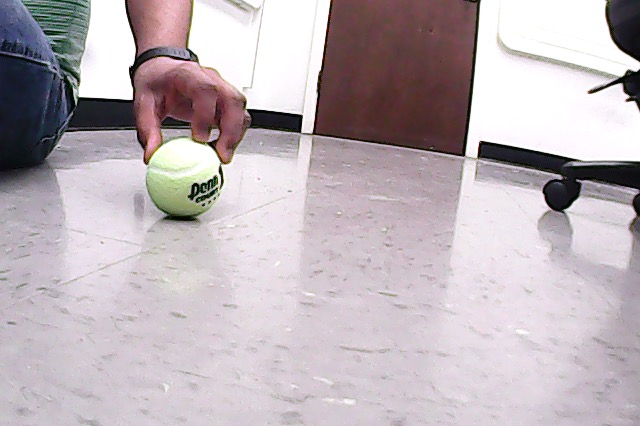ball: (146, 135, 227, 222)
